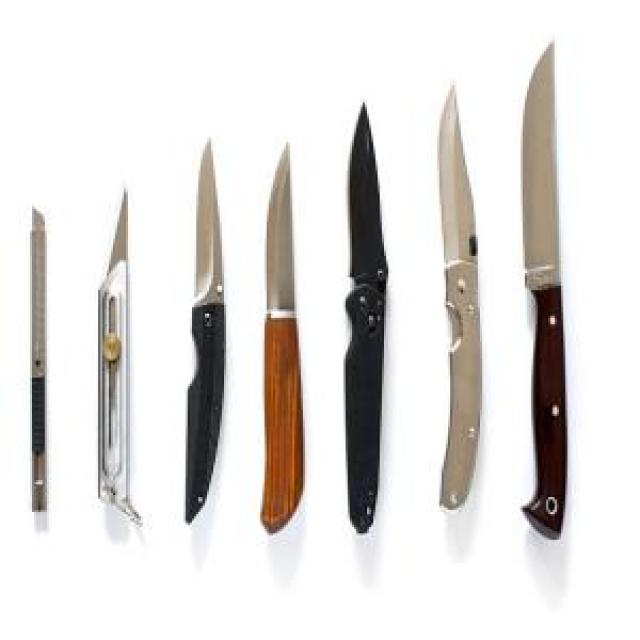knife: (418, 77, 484, 519), (335, 96, 394, 538), (520, 38, 570, 543), (250, 141, 307, 541), (173, 132, 227, 526), (92, 181, 144, 543), (24, 198, 56, 527)
